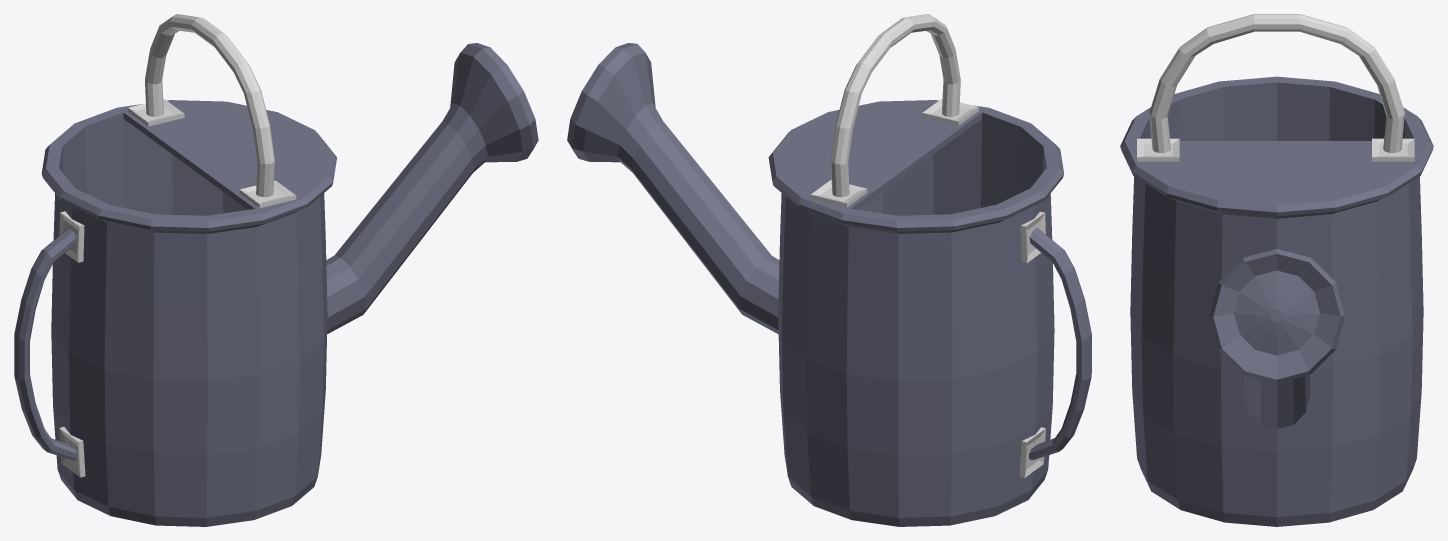
File: Regador.fbx
The picture shows the model from 3 angles, left to right: view 1: azimuth 30°, elevation 25°; view 2: azimuth 150°, elevation 25°; view 3: azimuth 270°, elevation 25°; orthographic projection. The views are drawn at different scales.
Parts seen in each view (by area): view 1: RegadorMetal; view 2: RegadorMetal; view 3: RegadorMetal.
Boxes of the visible parts, x1,y1,x2,y2 form: RegadorMetal: (14,14,538,526); RegadorMetal: (567,14,1091,526); RegadorMetal: (1120,14,1433,526).
Size of the model in its own units: 48.64 by 40.83 by 24.95.
